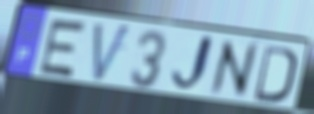3: (129, 28, 168, 91)
D: (252, 43, 299, 105)
E: (36, 17, 91, 81)
J: (169, 32, 216, 96)
N: (208, 38, 260, 99)
V: (91, 20, 134, 86)
